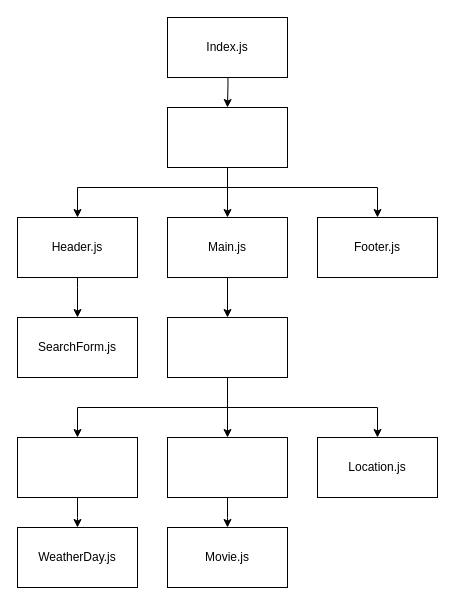
This 455x605 diagram has some shape labels left out. The centre of each missing label's shape, as x and y in pixels:
"App.js" belongs at point (227, 137).
"Movies.js" belongs at point (227, 467).
"SearchResults.js" belongs at point (227, 347).
"Weather.js" belongs at point (77, 467).
